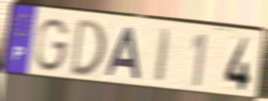1: (191, 31, 209, 88)
4: (222, 35, 252, 94)
A: (104, 26, 142, 82)
D: (68, 17, 108, 79)
G: (34, 17, 72, 73)
I: (153, 27, 174, 86)
